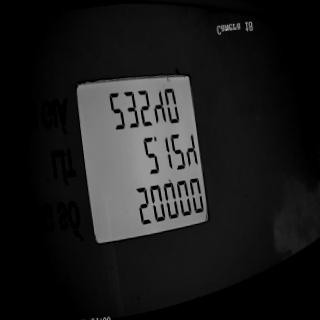screen: (72, 65, 218, 257)
